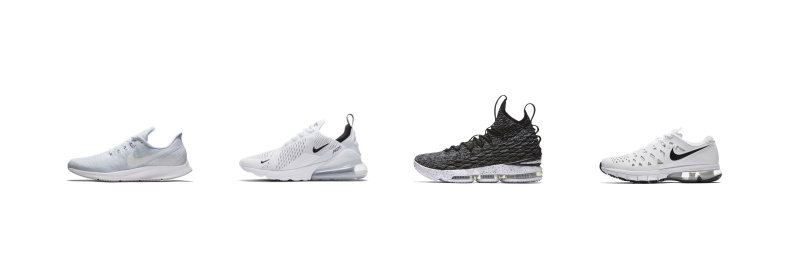nike: (125, 145, 178, 168), (667, 145, 711, 164), (310, 139, 330, 155)
